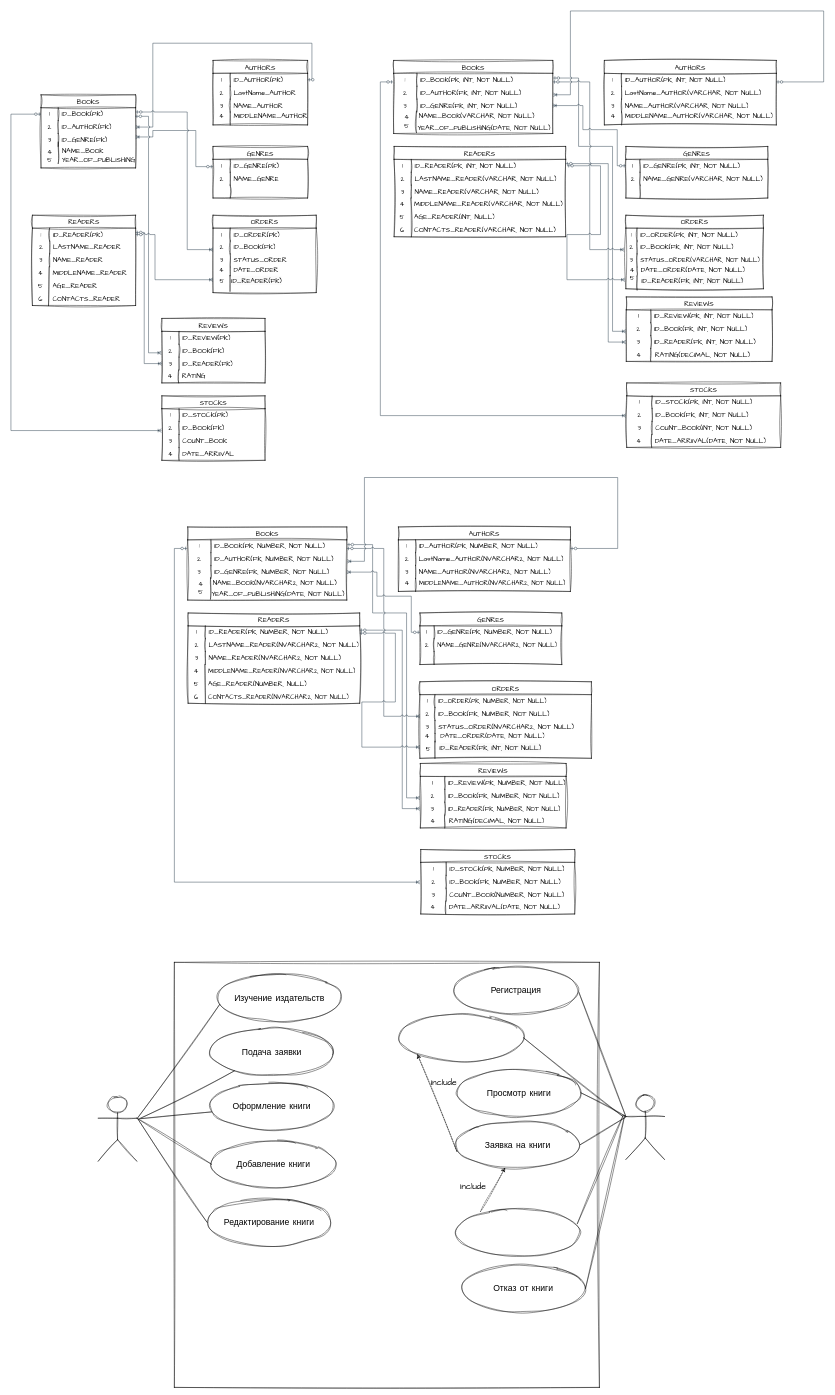
The diagram is 835 pixels wide and 1395 high, and some of its shapes have lost their labels. Here are the shapes that lost their labels. From the top down, the centre of each, then its label:
At [461,1037]: "Авторизация".
At [117,1128]: "AUTHOR".
At [645,1127]: "READER".
At [517,1232]: "Оплата за книги".
